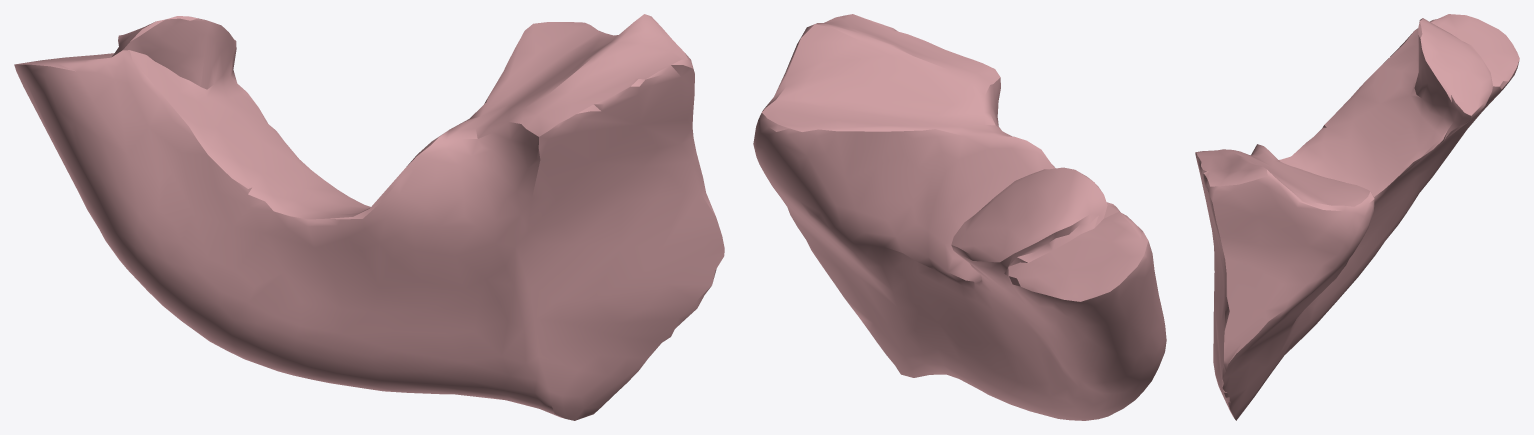
The model's file is fma60989_mm1275m.glb.
3 renders of one model, left to right at view 1: azimuth 30°, elevation 25°; view 2: azimuth 150°, elevation 25°; view 3: azimuth 270°, elevation 25°, orthographic. The views are drawn at different scales.
Visible parts, largest first — view 1: FMA60989_MM1275M; view 2: FMA60989_MM1275M; view 3: FMA60989_MM1275M.
Part boxes in pixels (x1,y1,x2,y2): FMA60989_MM1275M: [14, 14, 724, 420]; FMA60989_MM1275M: [753, 14, 1166, 420]; FMA60989_MM1275M: [1195, 14, 1519, 420].
Bounding box in the file's own units: 0.0259 × 0.0176 × 0.0181.
